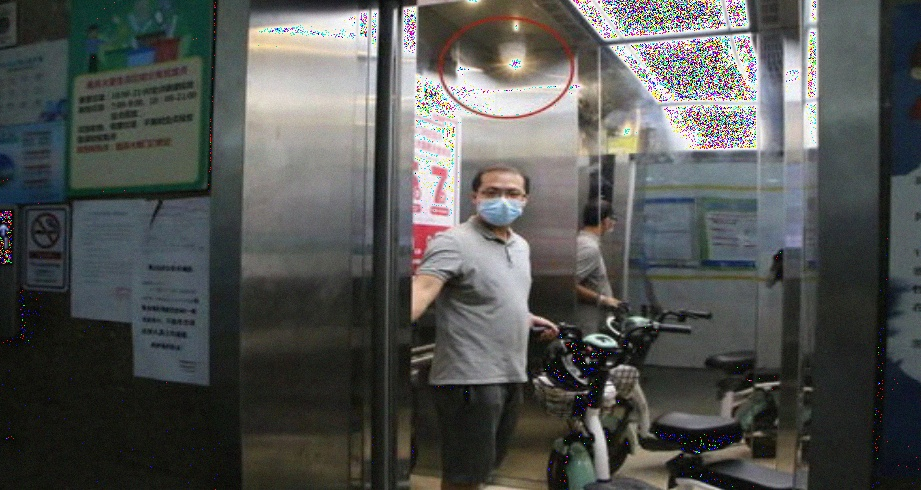ebike: (532, 322, 795, 486)
person: (417, 164, 531, 489)
